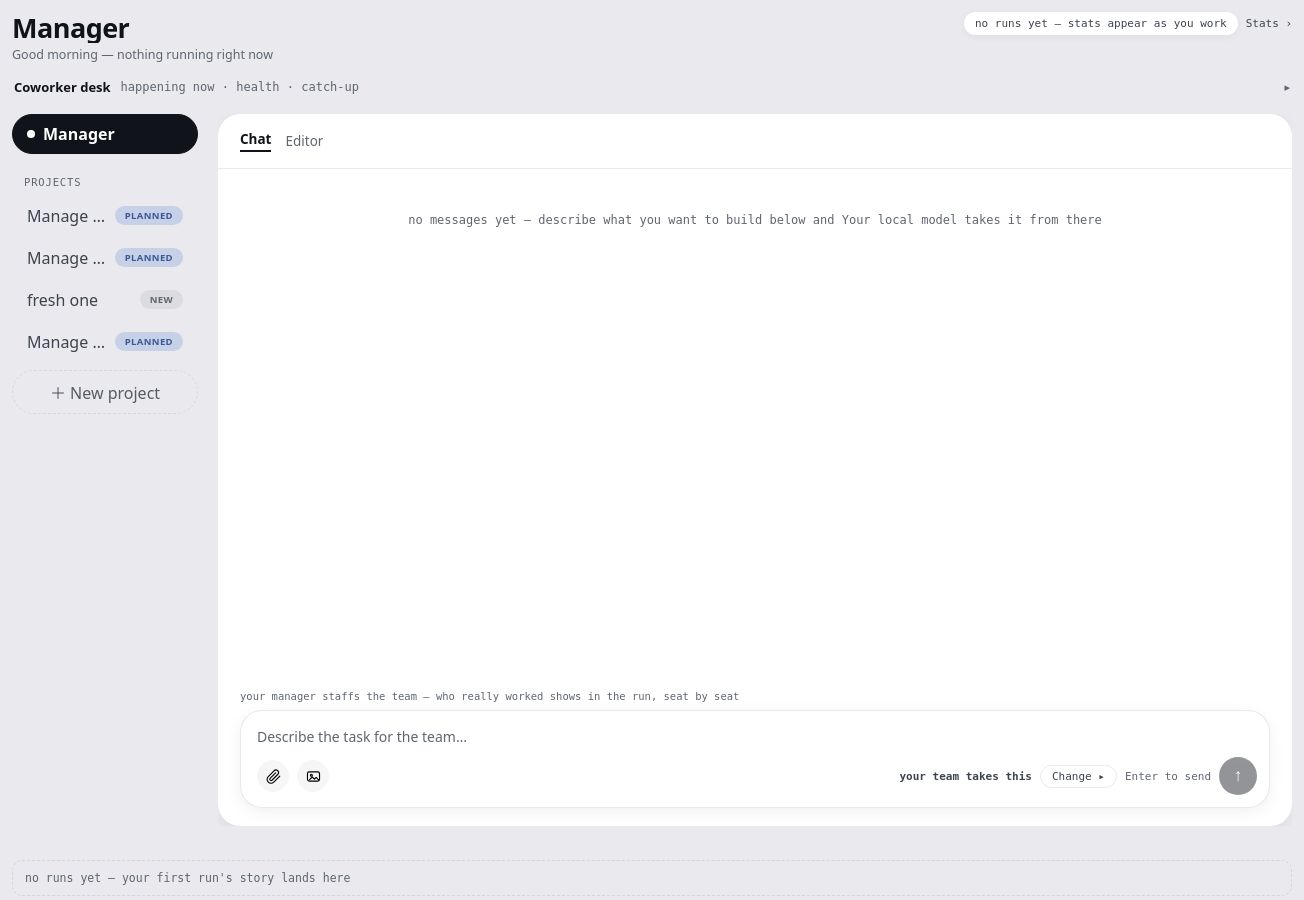
Test: the simplified target picker › team is preselected; specialist lanes are folded
This screenshot has width=1304, height=900.
Click the button with aria-label "change who takes this" at [1078, 776], box [1040, 764, 1117, 788]
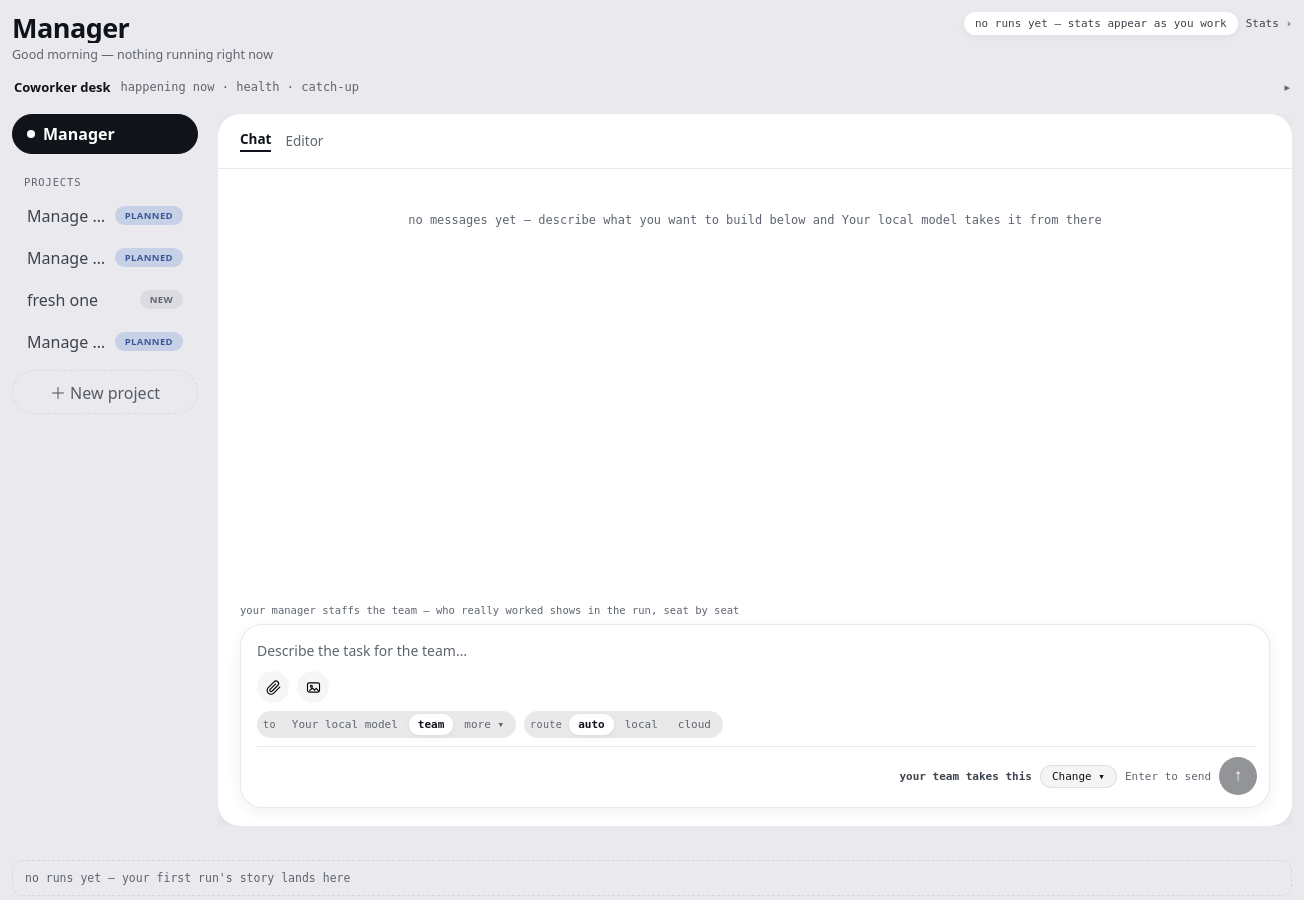
Expected: the radio button labelled "agent" is not shown
Result: the button "more ▾" is shown
Click the button "more ▾" at [484, 724], box [455, 714, 513, 735]
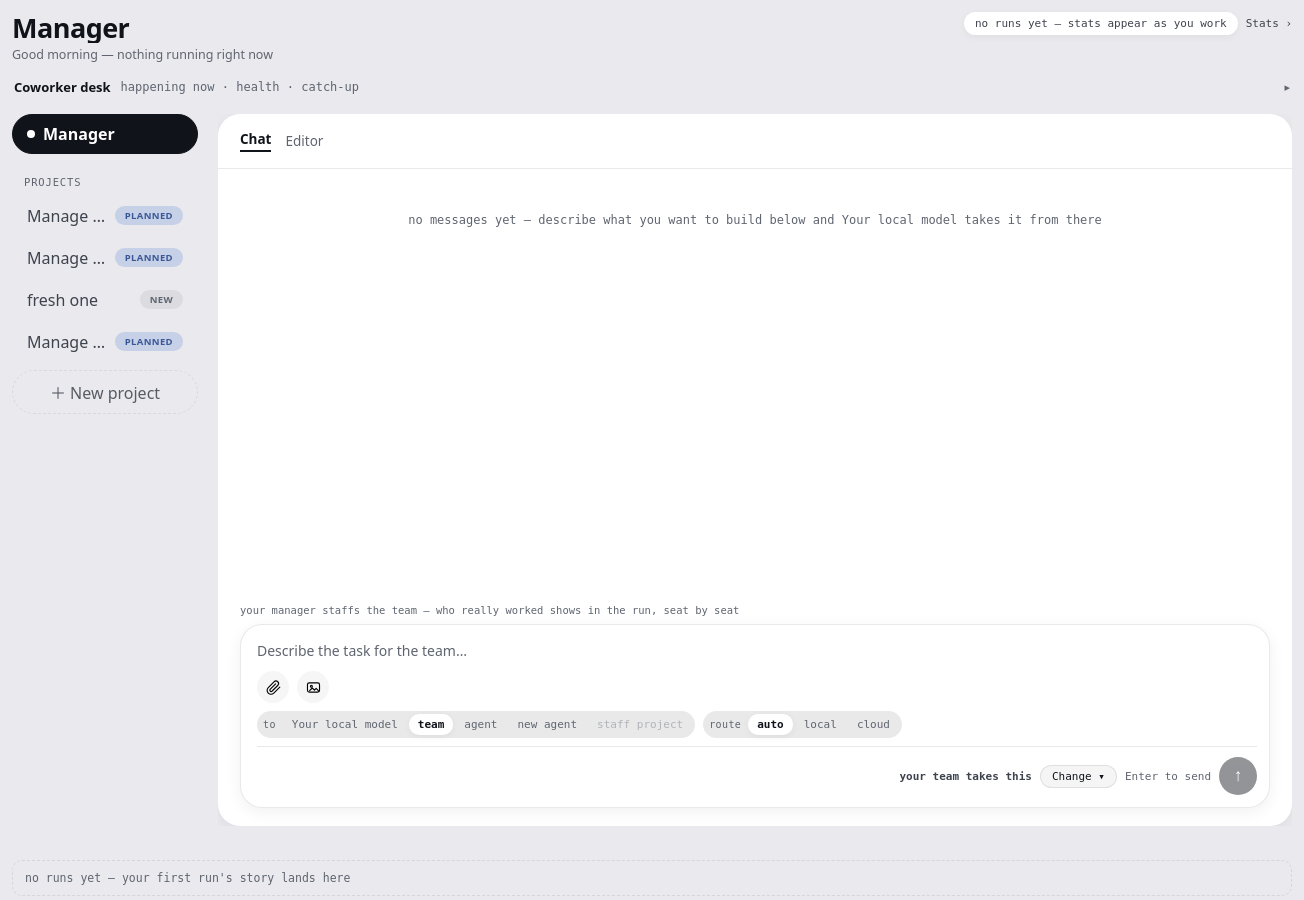
Result: the radio button labelled "agent" is shown at [455, 714, 506, 735]
Result: the radio button labelled "staff project" is shown at [588, 714, 692, 735]
